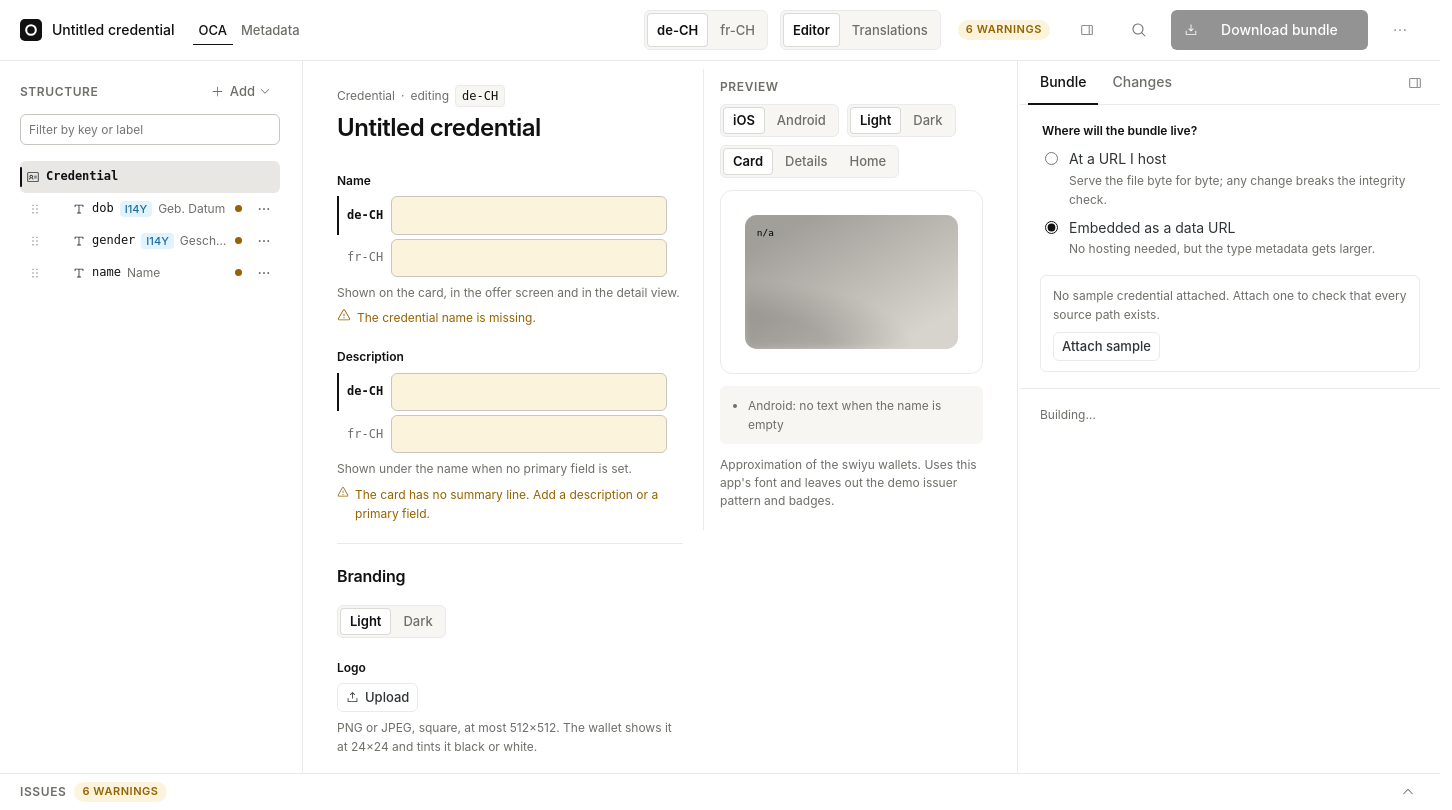
Scenario: Fill missing languages from I14Y › takes the whole fill back with the toast's Undo
Step 1. Click the button named "More actions" → click(1400, 30), box [1380,10,1420,50]
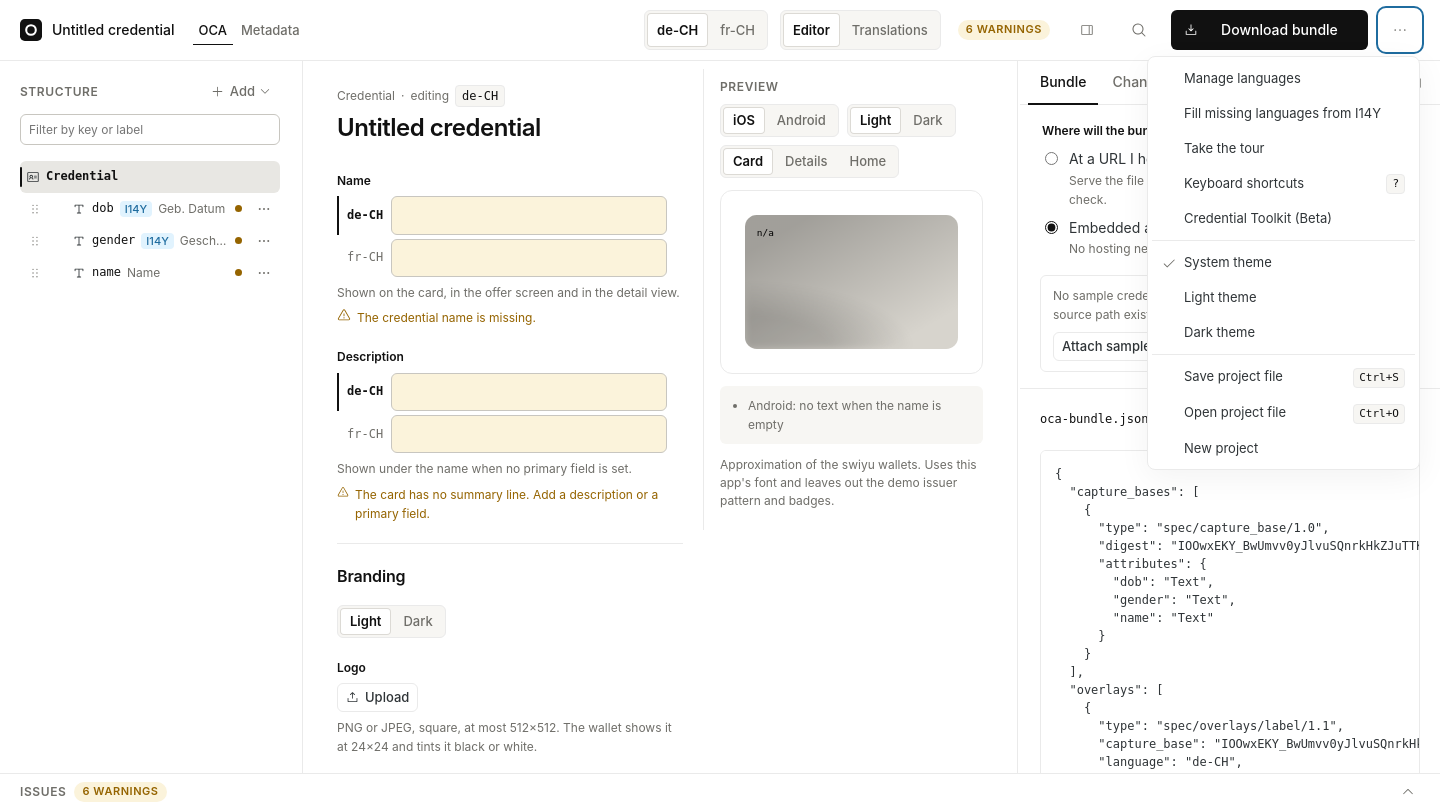
Step 2. Click the menu item "Fill missing languages from I14Y" → click(1284, 113), box [1152,96,1415,131]
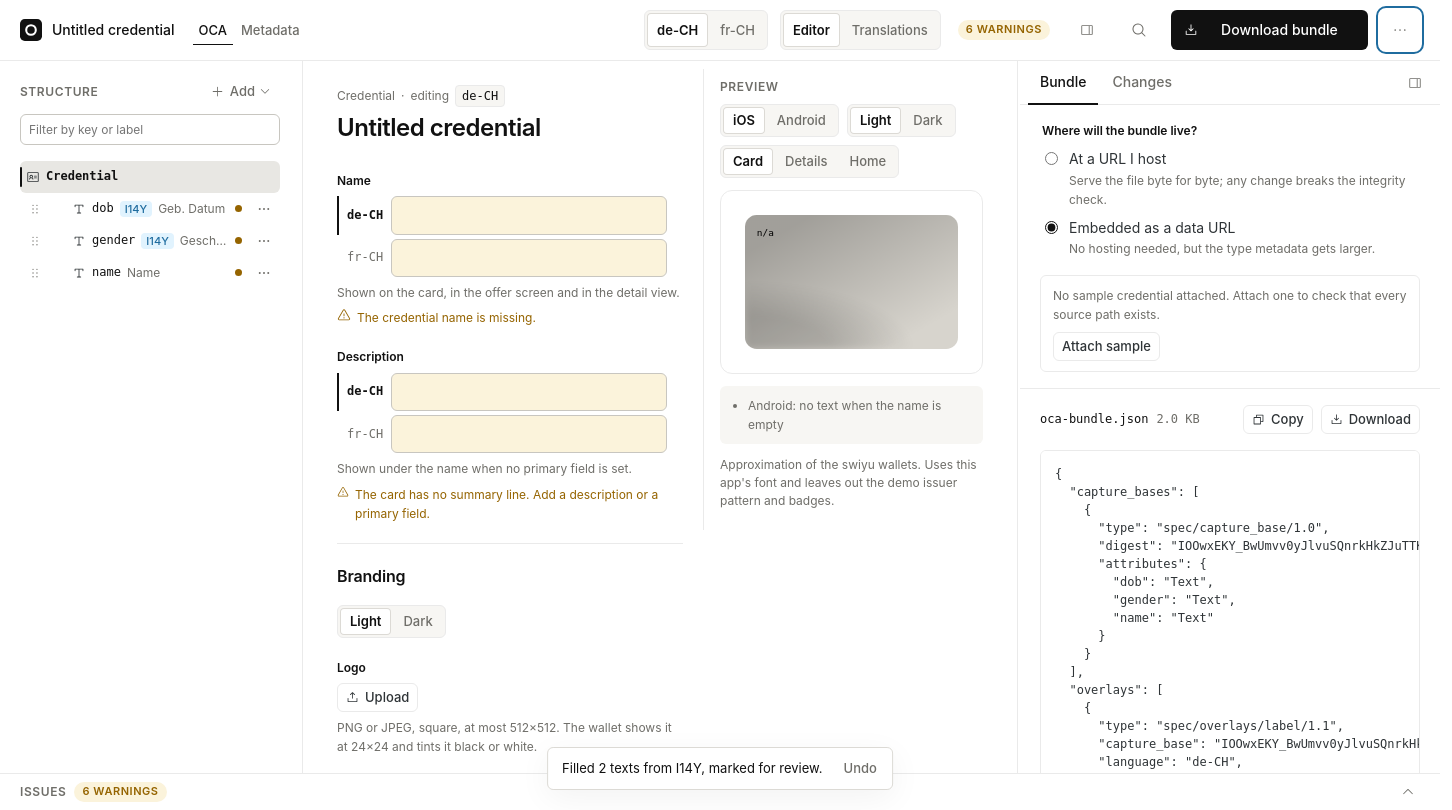
Step 3. Click the button "Undo" → click(860, 769), box [834,754,886,783]
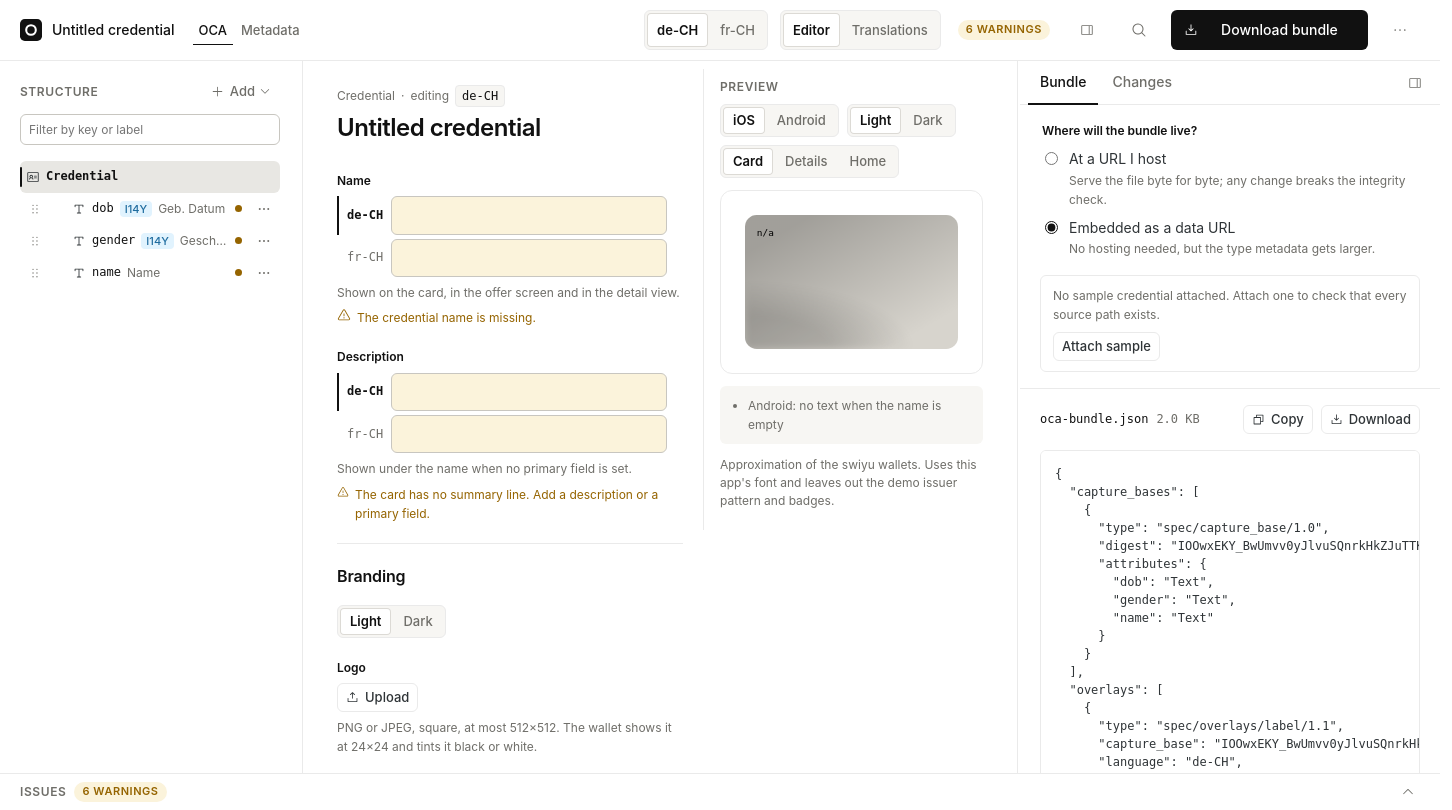
Expected: the element with class "toast" is gone
